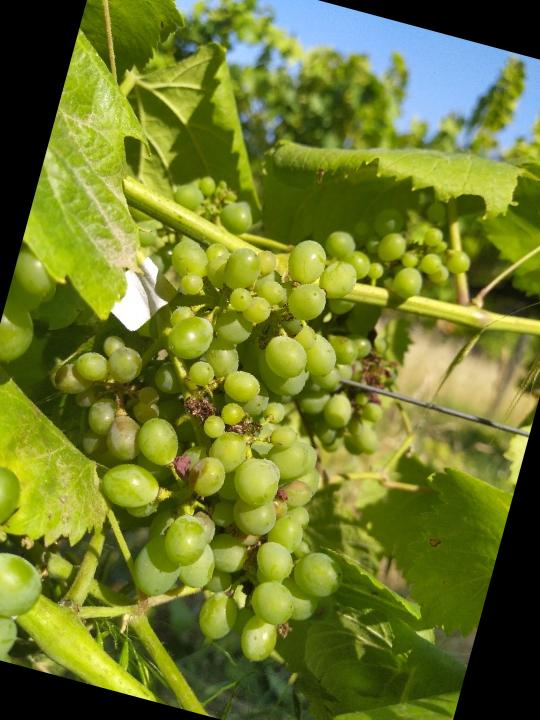grape: (0, 178, 429, 678)
